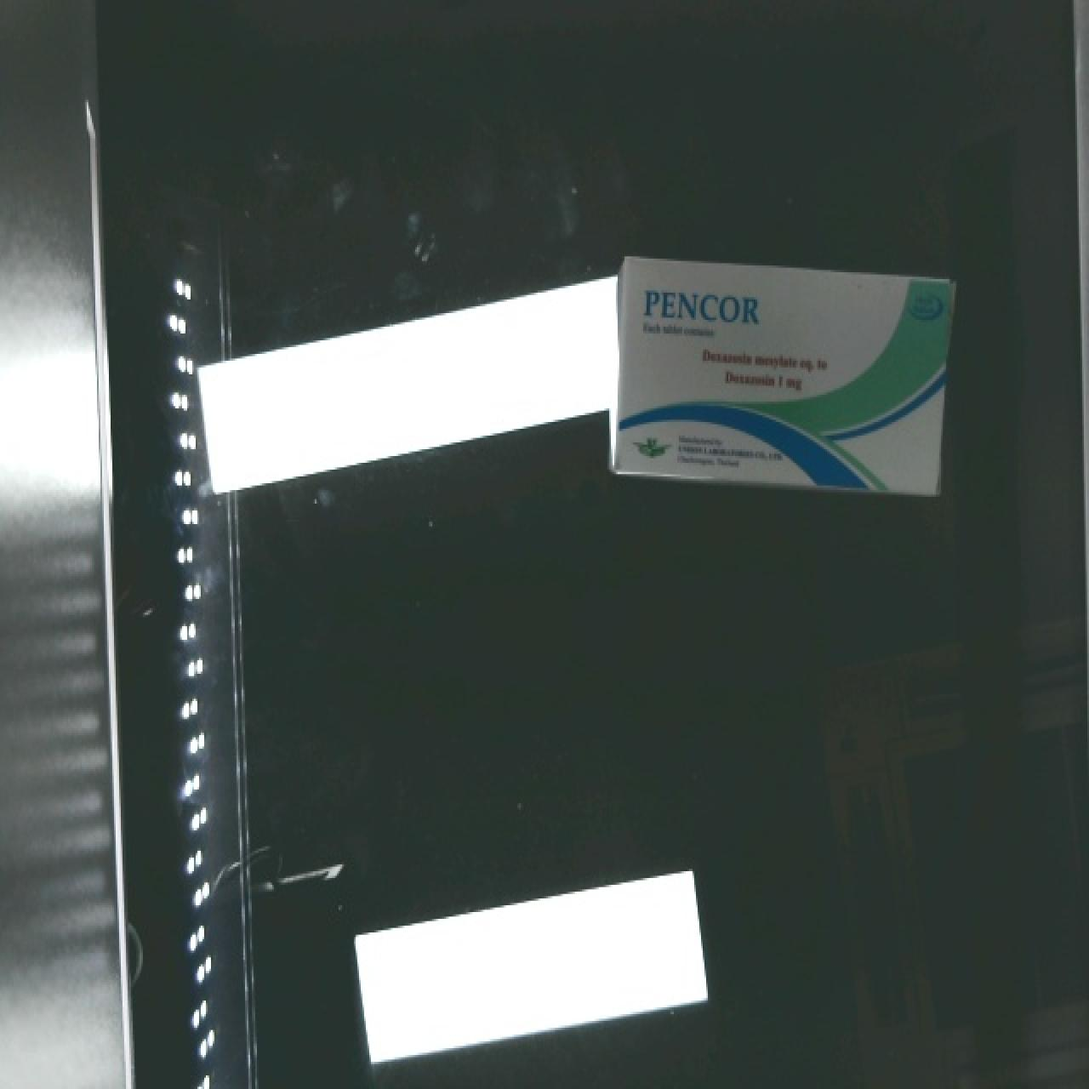medicine_label_obb: (620, 253, 777, 338)
